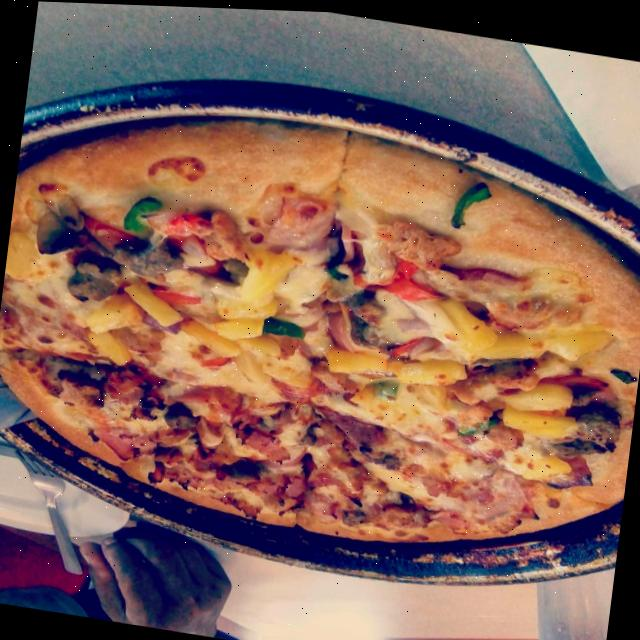pizza: (0, 73, 640, 579)
